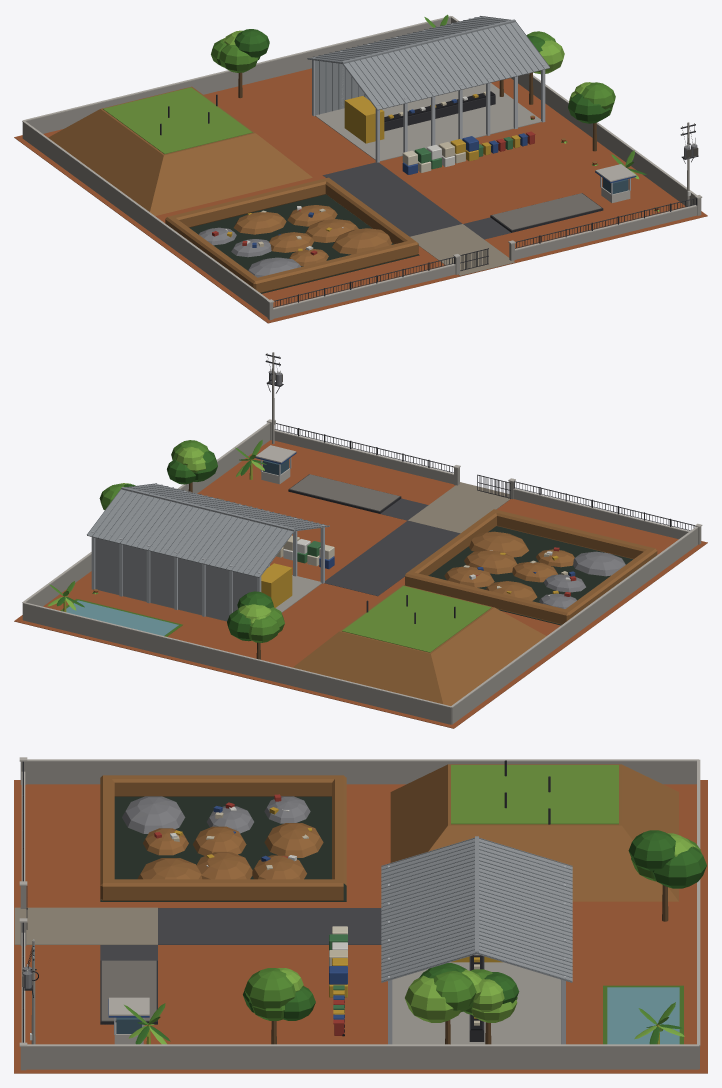
The model's file is waste.glb.
The picture shows the model from 3 angles, top to bottom: view 1: azimuth 30°, elevation 25°; view 2: azimuth 150°, elevation 25°; view 3: azimuth 270°, elevation 25°; orthographic projection. The views are drawn at different scales.
Parts seen in each view (by area): view 1: body; view 2: body; view 3: body.
Part boxes in pixels (bbox=[...]): body: bbox=[14, 14, 707, 323]; body: bbox=[14, 352, 707, 728]; body: bbox=[14, 757, 707, 1073].
Bounding box in the file's own units: 48.75 × 9.81 × 47.9.
